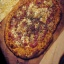pizza: (5, 1, 60, 60)
